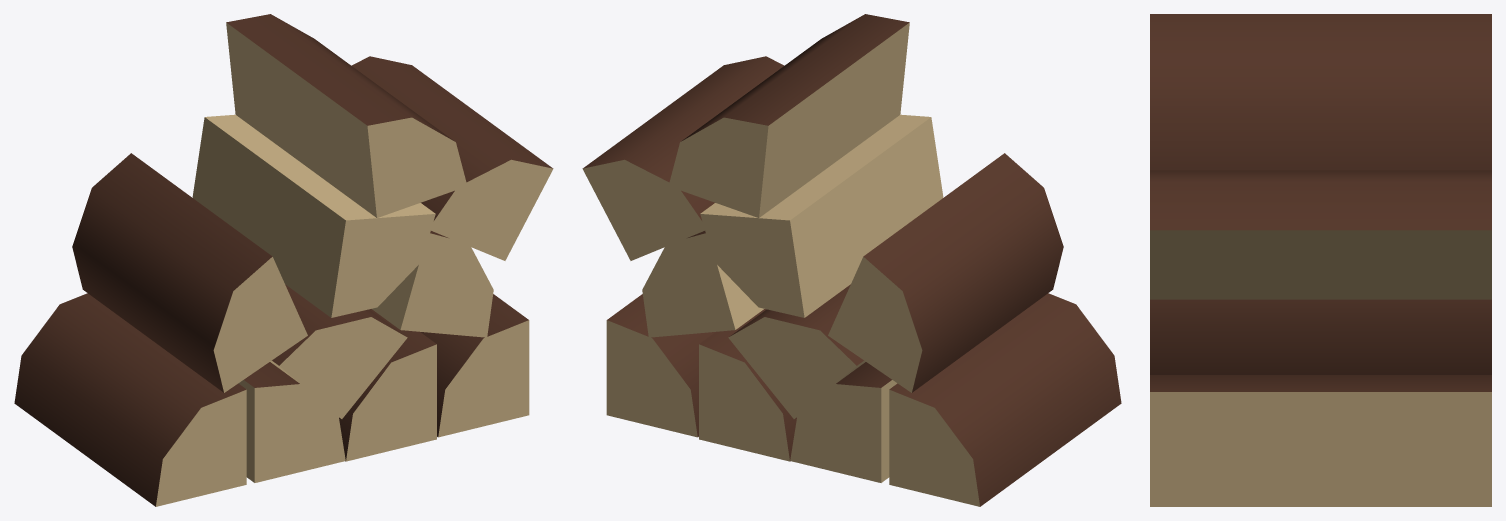
File: Furniture_FirewoodPile_S.fbx
3 views of the same model, side by side, from view 1: azimuth 30°, elevation 25°; view 2: azimuth 150°, elevation 25°; view 3: azimuth 270°, elevation 25° (orthographic). The views are drawn at different scales.
Parts seen in each view (by area): view 1: Firewood Pile Small; view 2: Firewood Pile Small; view 3: Firewood Pile Small.
Boxes of the visible parts, x1,y1,x2,y2 form: Firewood Pile Small: [14, 14, 553, 506]; Firewood Pile Small: [582, 14, 1121, 506]; Firewood Pile Small: [1150, 14, 1491, 506].
Bounding box in the file's own units: 207 × 165 × 128.
